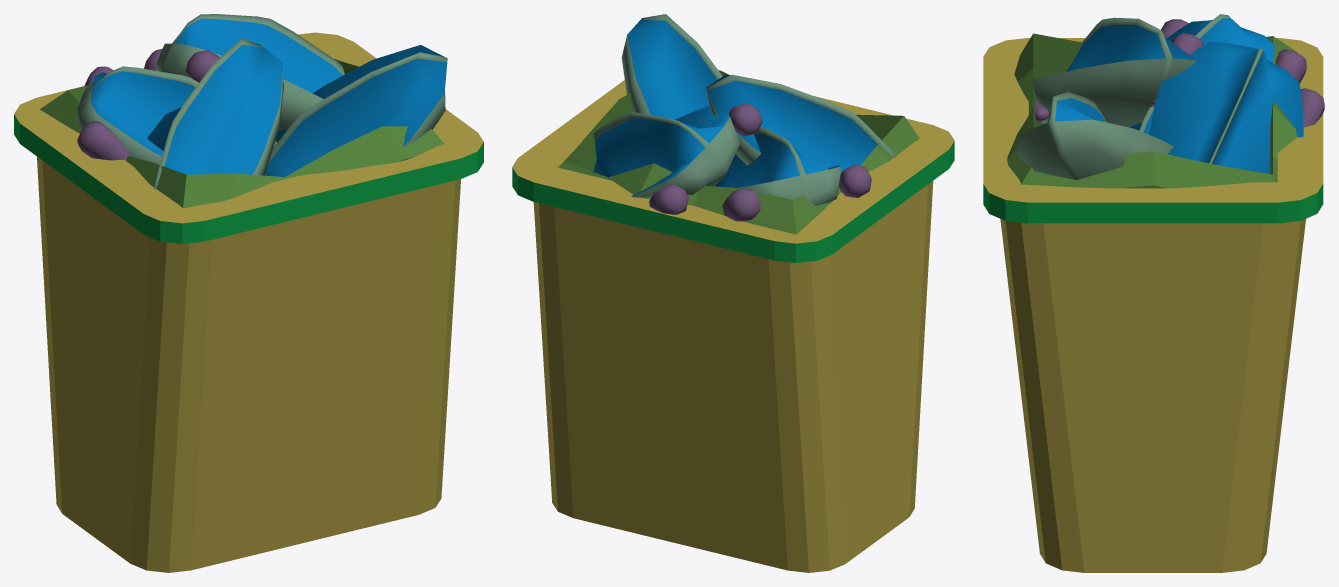
File: TurkeyBonesProvider.fbx
3 views of the same model, side by side, from view 1: azimuth 30°, elevation 25°; view 2: azimuth 150°, elevation 25°; view 3: azimuth 270°, elevation 25° (orthographic). The views are drawn at different scales.
Visible parts, largest first — view 1: Bin, Turkey; view 2: Bin, Turkey; view 3: Bin, Turkey.
Boxes of the visible parts, left/top/right/bottom form: Bin: left=14, top=32, right=483, bottom=572; Turkey: left=77, top=14, right=447, bottom=189; Bin: left=512, top=70, right=954, bottom=572; Turkey: left=593, top=14, right=896, bottom=221; Bin: left=983, top=33, right=1323, bottom=572; Turkey: left=1015, top=14, right=1324, bottom=180.
Size of the model in its own units: 59.96 by 79.14 by 52.57.
